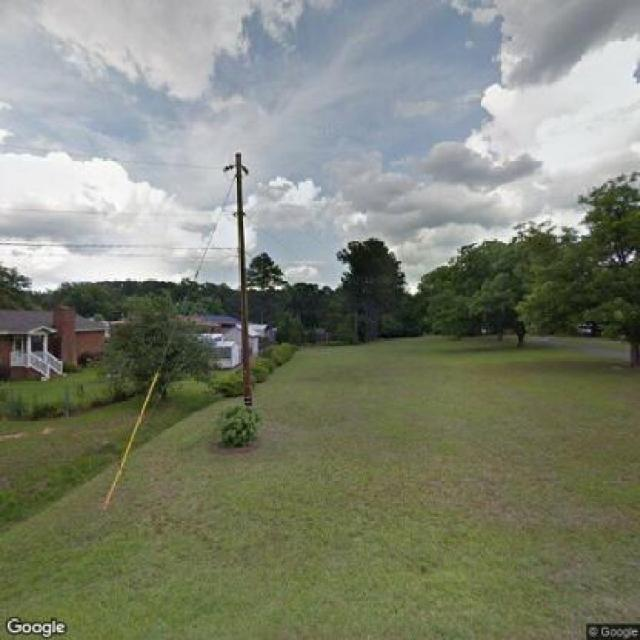pole: (212, 146, 274, 402)
